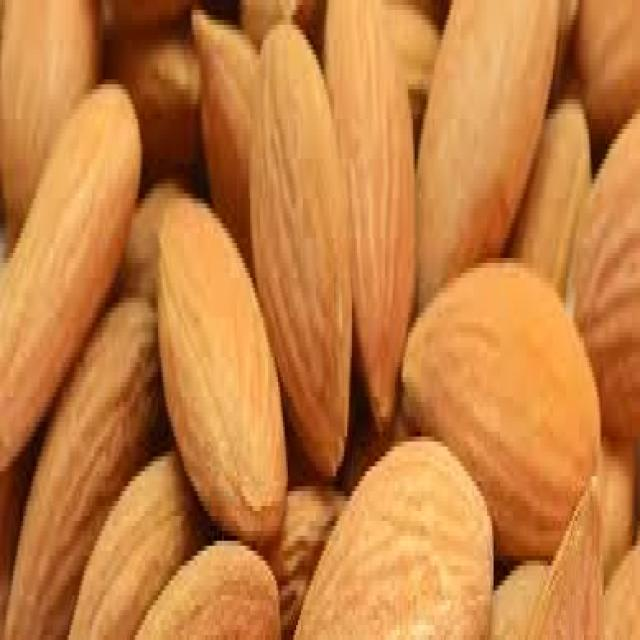cekirdek: (23, 36, 639, 634)
